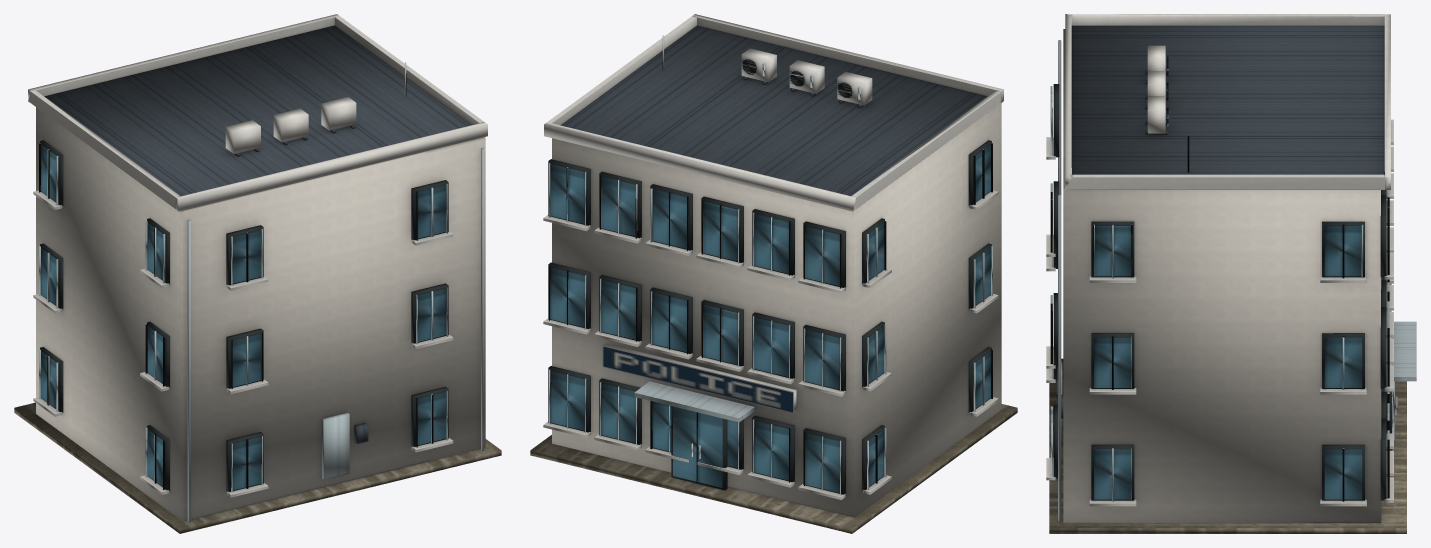
File: public_005.obj
3 views of the same model, side by side, from view 1: azimuth 30°, elevation 25°; view 2: azimuth 150°, elevation 25°; view 3: azimuth 270°, elevation 25° (orthographic). The views are drawn at different scales.
Parts seen in each view (by area): view 1: public_005; view 2: public_005; view 3: public_005.
Boxes of the visible parts, x1,y1,x2,y2 form: public_005: (14,14,501,533); public_005: (530,14,1017,533); public_005: (1046,14,1416,533).
Bounding box in the file's own units: 10.1 × 10.6 × 9.32.
1 material, 1 textured.
